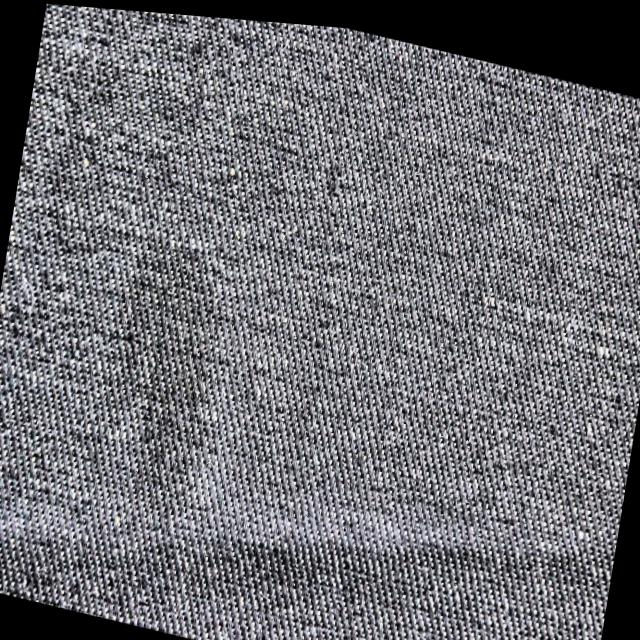Hole: (116, 245, 219, 506)
